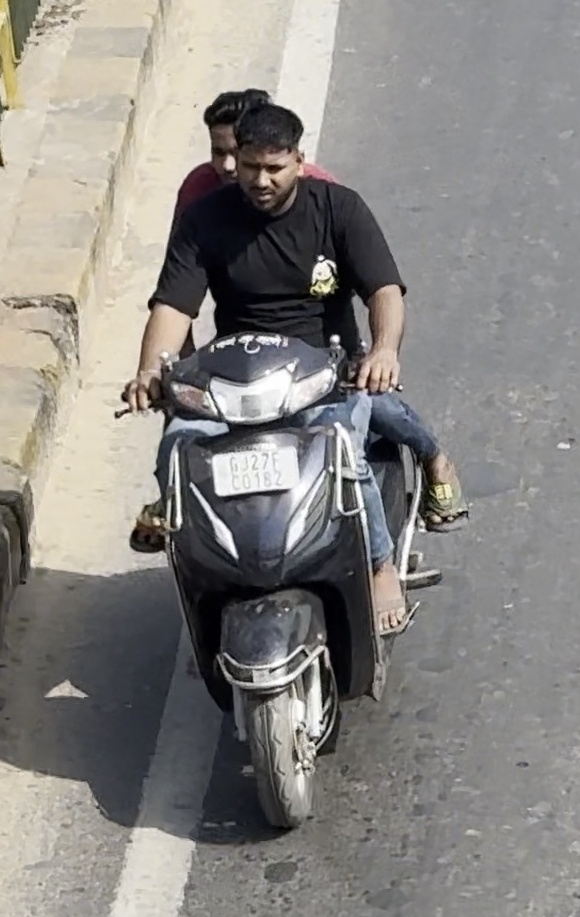BikeWithRider: (104, 81, 480, 838)
NoHelmet: (223, 98, 318, 220), (190, 82, 280, 189)
